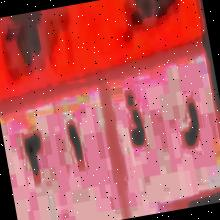1: (61, 114, 96, 184)
3: (20, 126, 52, 198)
raa: (174, 89, 207, 158)
zaal: (118, 79, 154, 159)
